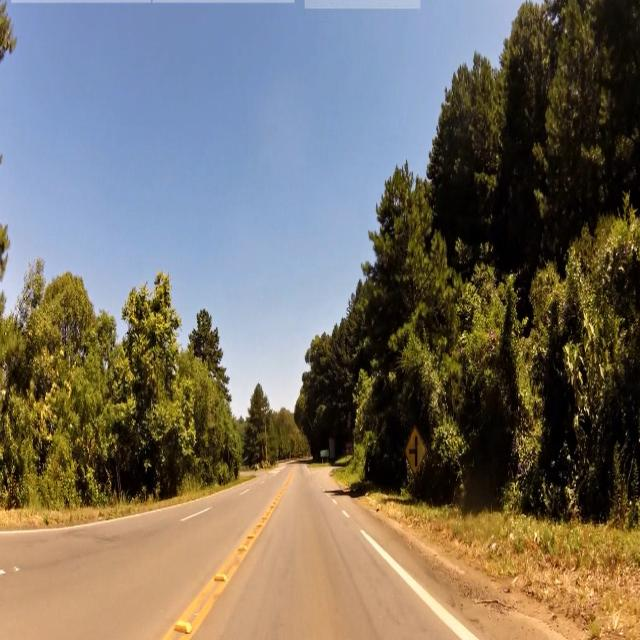R-6a: (404, 426, 428, 475)
